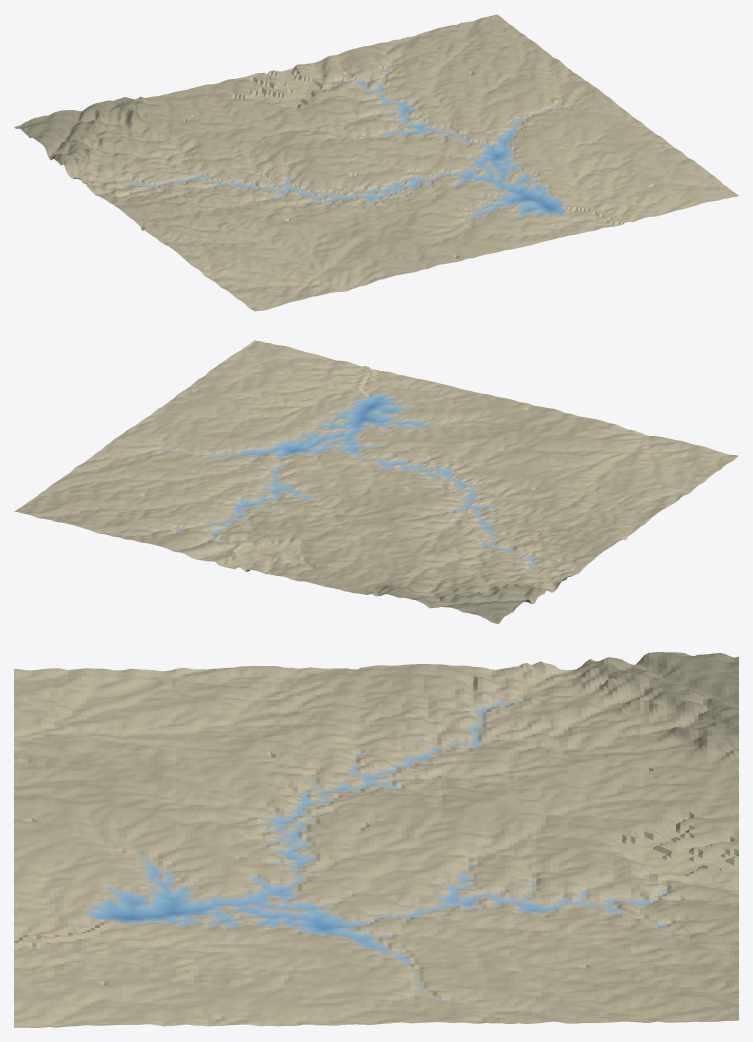
Rendered from lake_hartwell_sc.glb.
3 renders of one model, top to bottom at view 1: azimuth 30°, elevation 25°; view 2: azimuth 150°, elevation 25°; view 3: azimuth 270°, elevation 25°, orthographic. The views are drawn at different scales.
Visible parts, largest first — view 1: terrain, water; view 2: terrain, water; view 3: terrain, water.
Boxes of the visible parts, <box> form: terrain: <box>14,14,738,311</box>; water: <box>149,70,563,215</box>; terrain: <box>14,340,738,623</box>; water: <box>176,394,531,559</box>; terrain: <box>14,652,738,1027</box>; water: <box>90,708,662,960</box>.
Size of the model in its own units: 64072 by 2201 by 55271.
